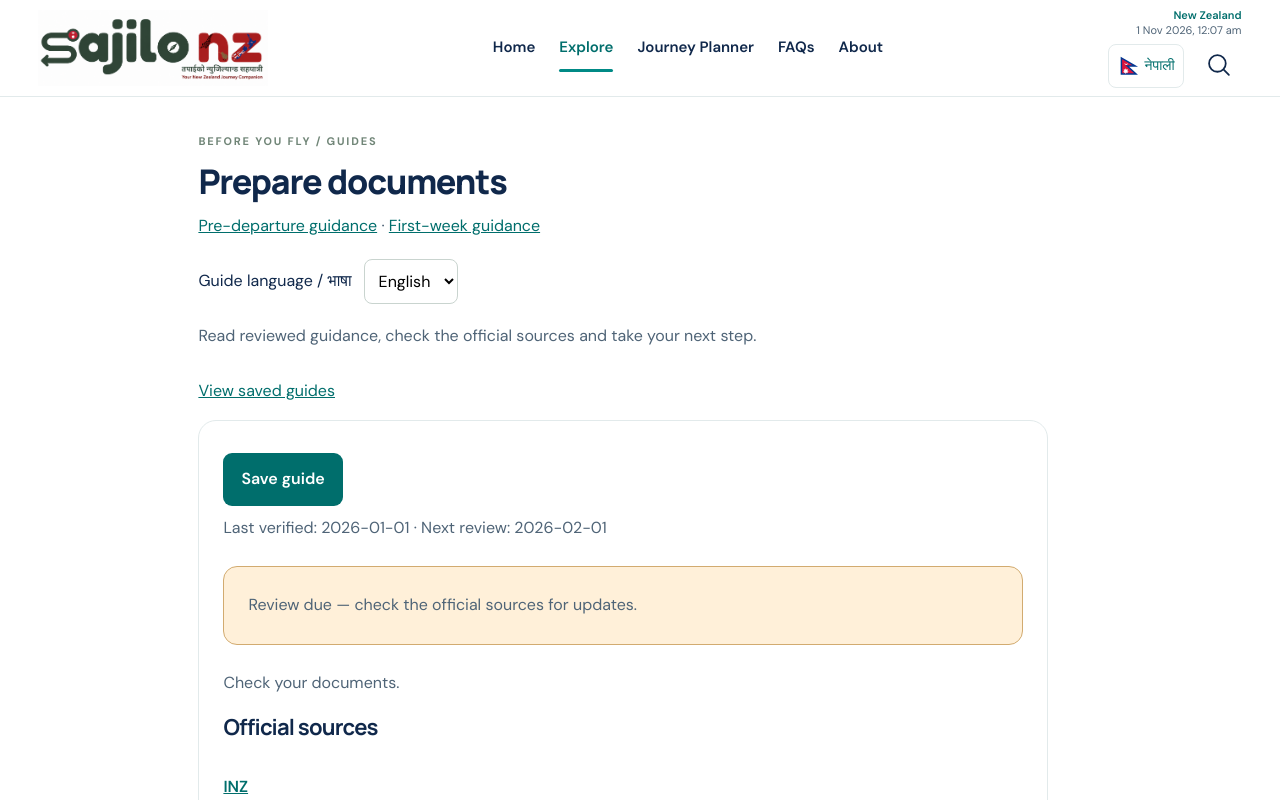
it: keeps a saved copy on API failure and removes its body after a successful withdrawal check
The width and height of the screenshot is (1280, 800).
Click the button "Save guide". click: (283, 479)
box: x1=223 y1=453 x2=343 y2=506
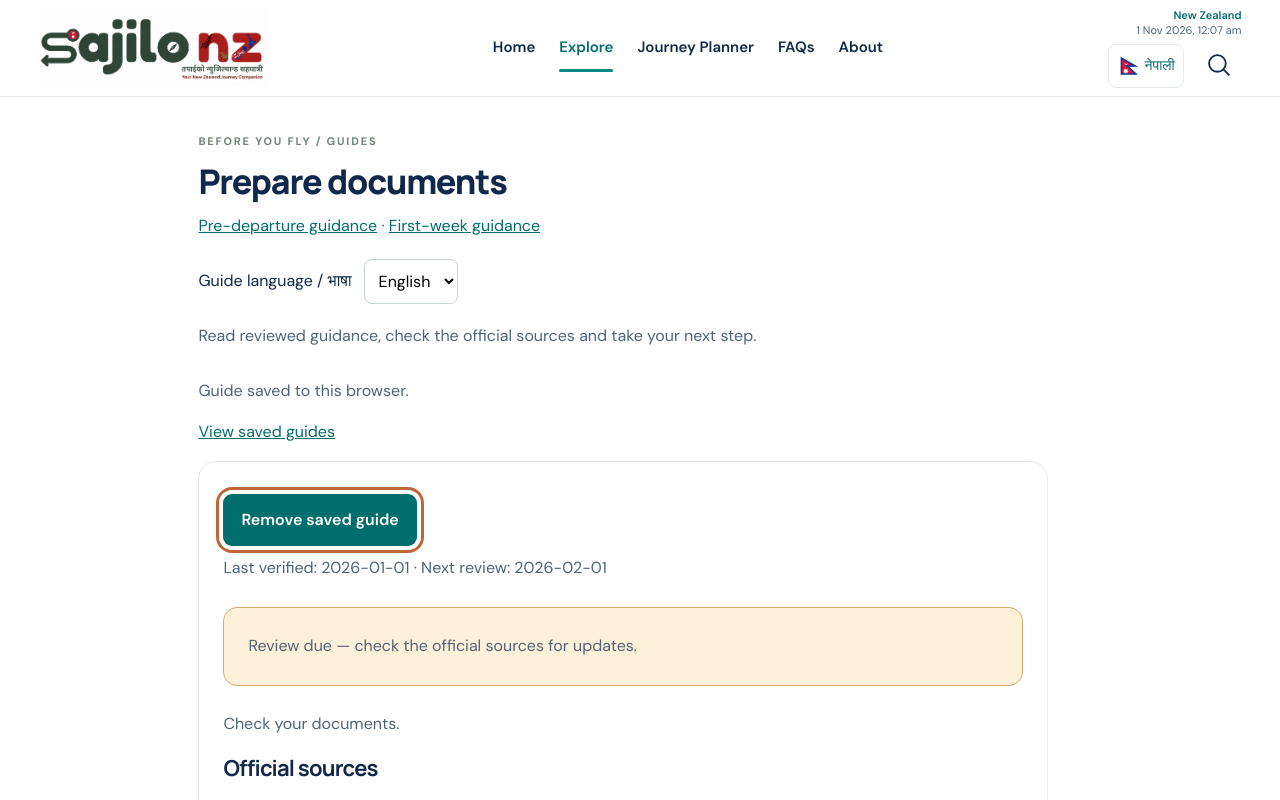
Click the link "View saved guides". click: (267, 431)
box: x1=198 y1=421 x2=335 y2=442
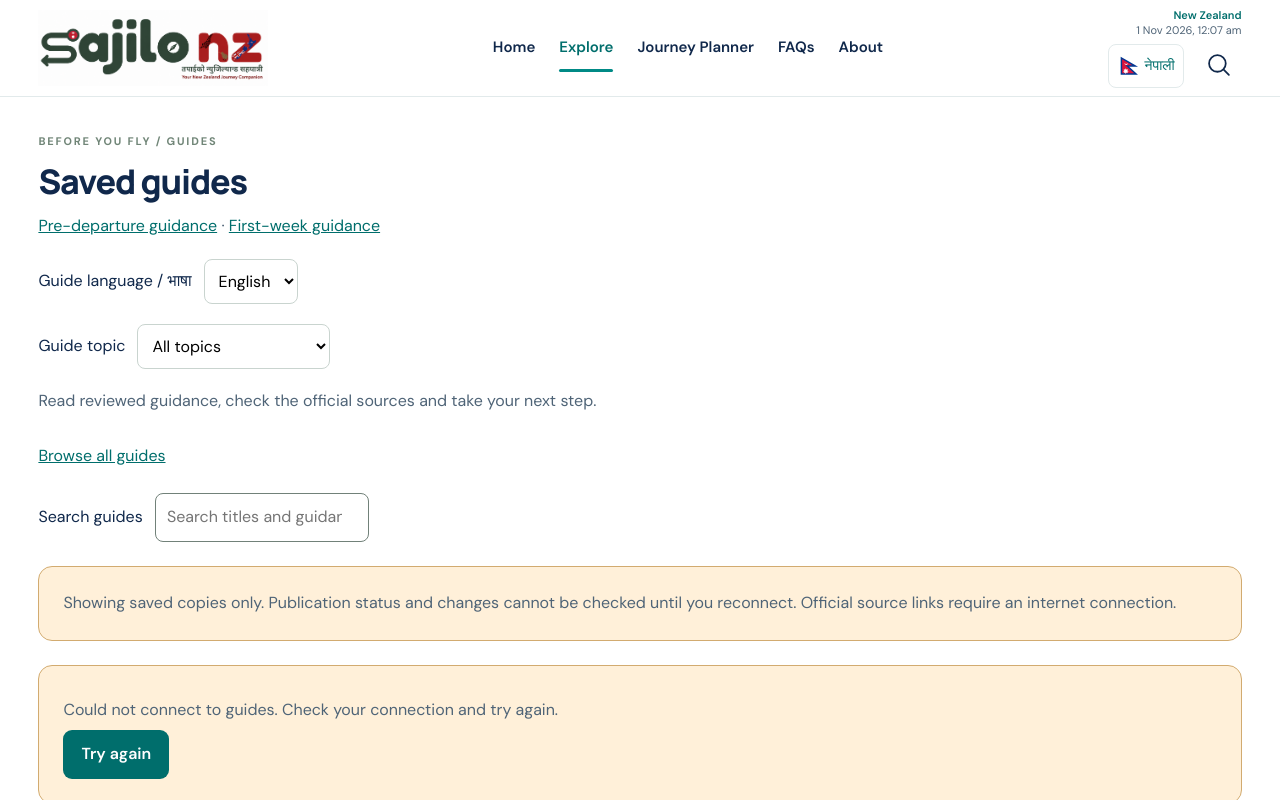
expect the text "Showing saved copies only" is shown: met, box x1=63 y1=592 x2=1176 y2=613
Click the button "Try again". click: (116, 755)
box: x1=63 y1=730 x2=169 y2=779
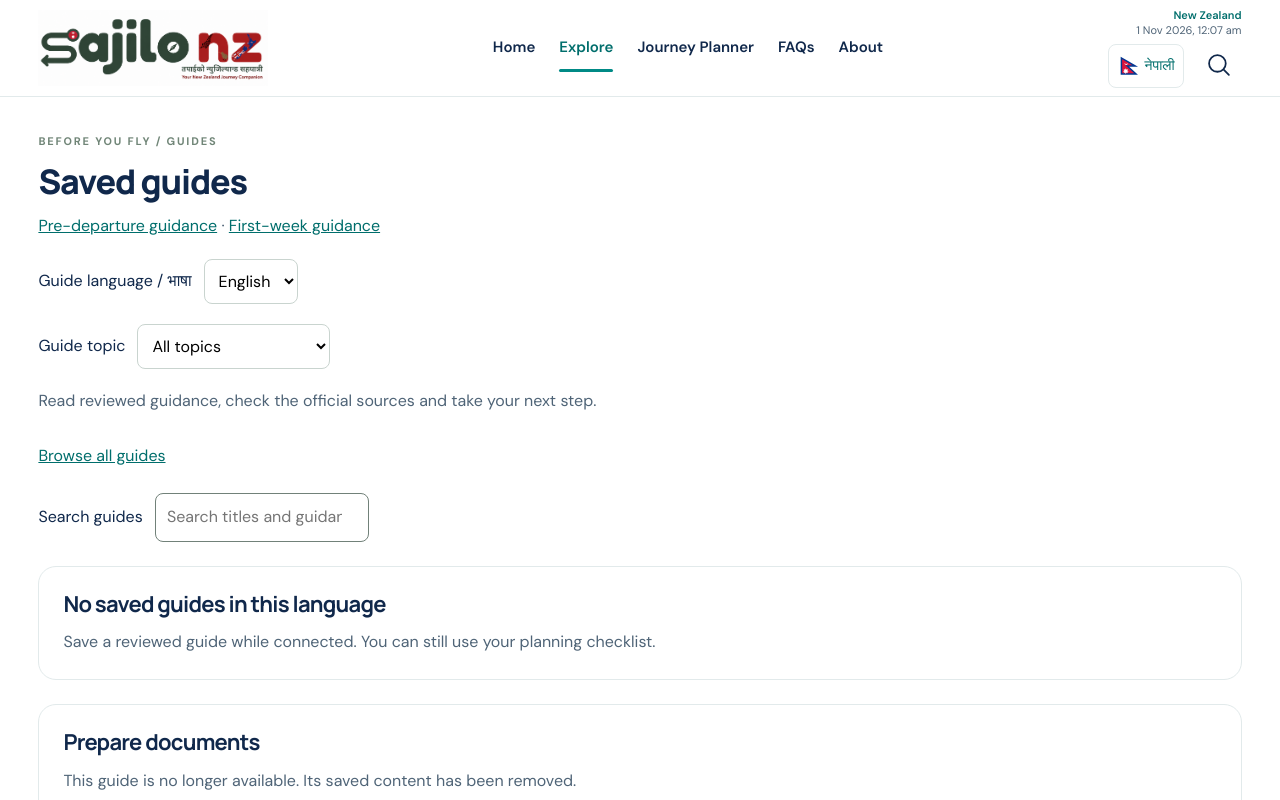
expect the text "This guide is no longer available" is shown: met, box x1=63 y1=770 x2=576 y2=791
